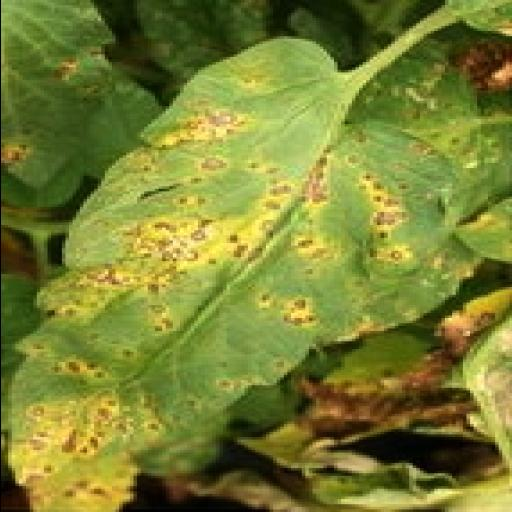disease_tomato: (0, 36, 480, 510)
